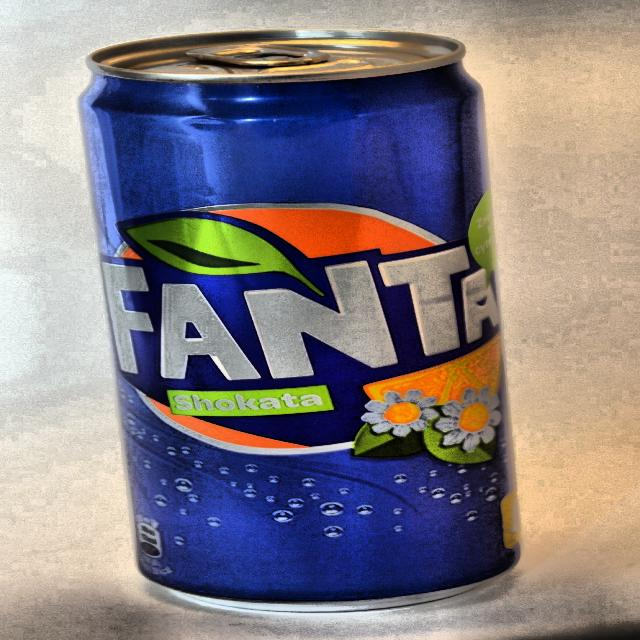Cans: (74, 14, 540, 640)
